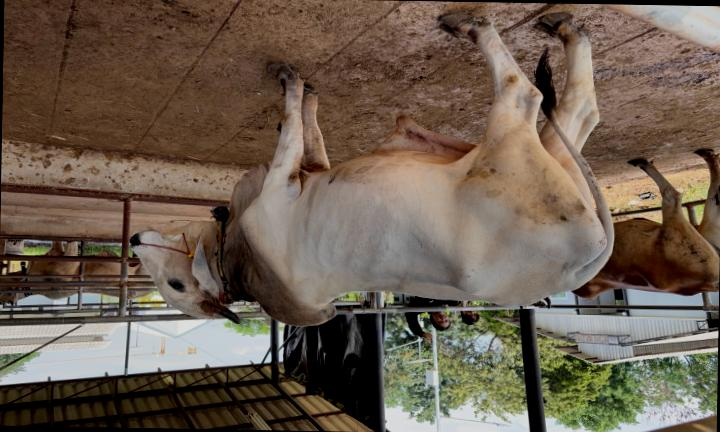Brahman: (131, 14, 613, 326)
